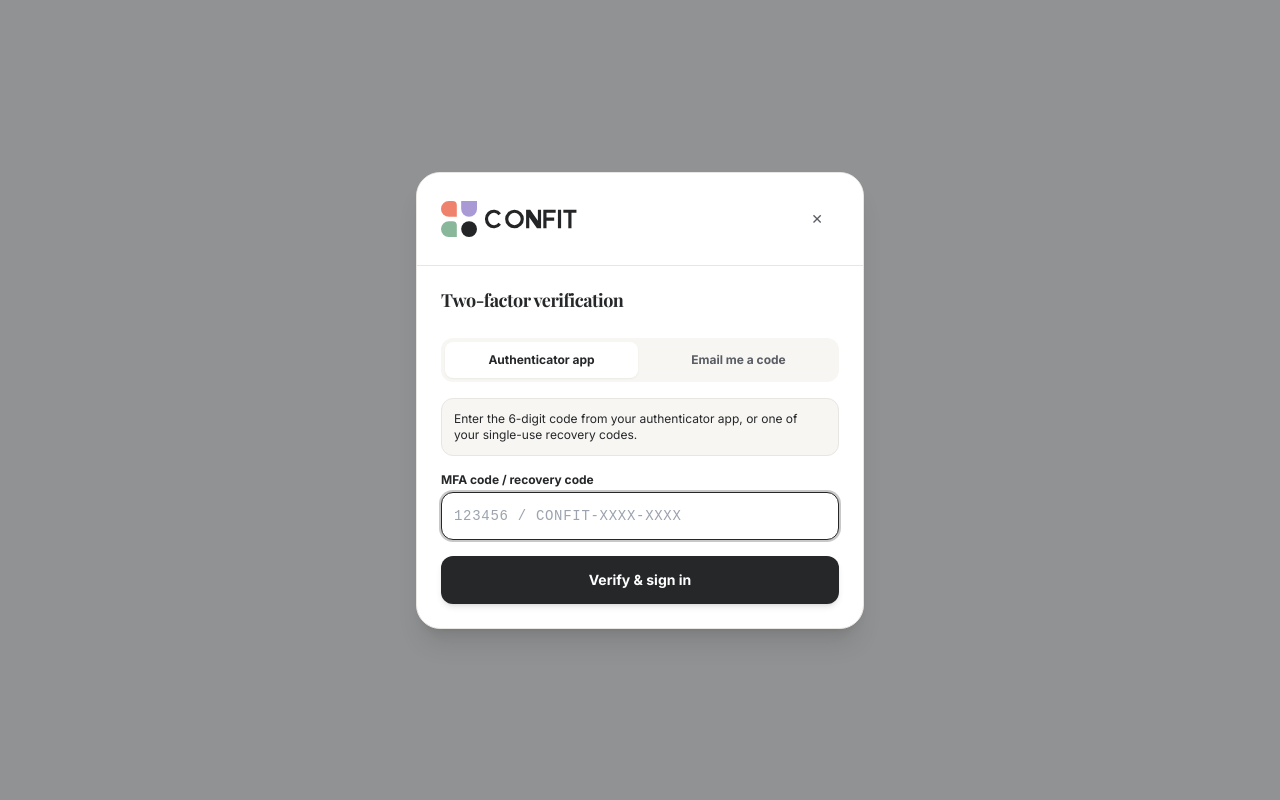
method chooser › choosing email shows the send button — still nothing sent until pressed
This screenshot has width=1280, height=800.
What coordinates should you click on to do the following:
click the radio button labelled "Email me a code"
I would click on:
 (738, 360)
Its box is [642,342,835,378].
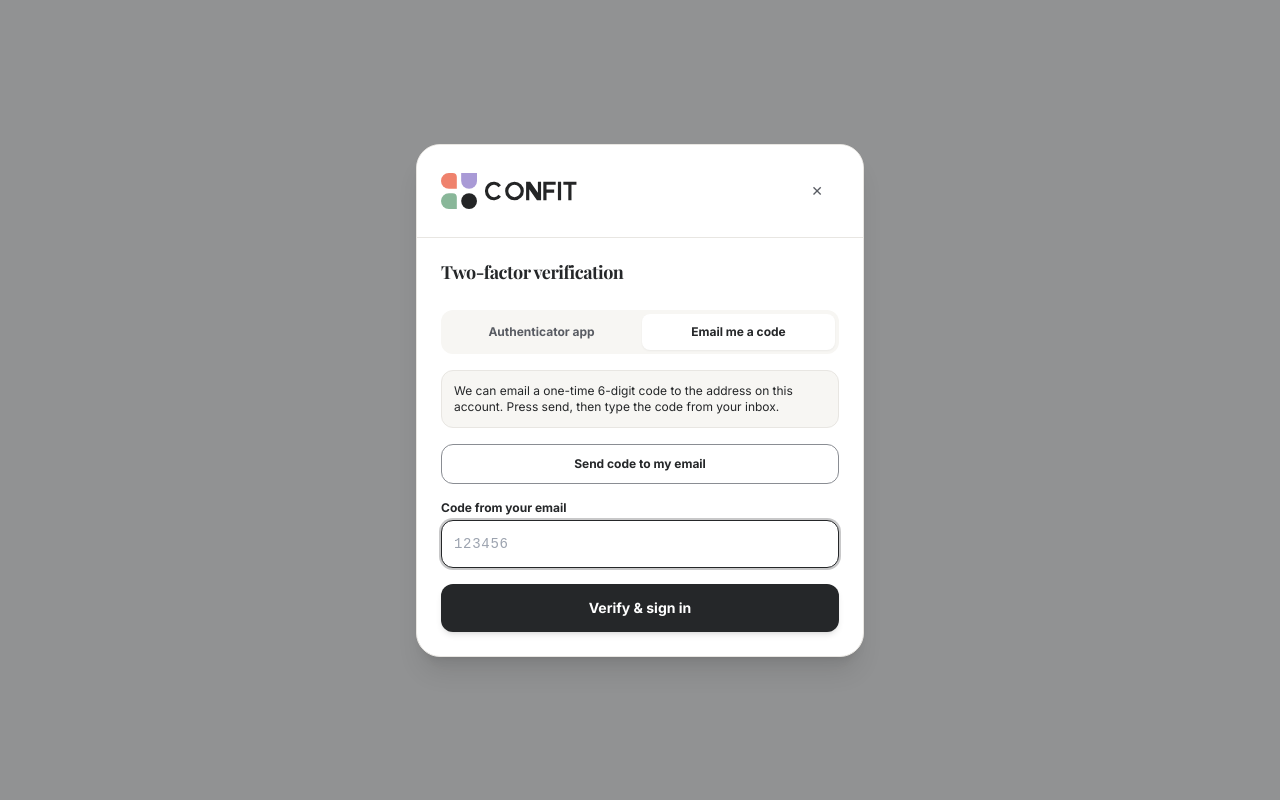
Expected: the text "We can email a one-time 6-digit code to the address on this account. Press send, then type the code from your inbox." is shown, [454,382,793,414]
Expected: the button "Send code to my email" is shown, [441,444,839,484]
